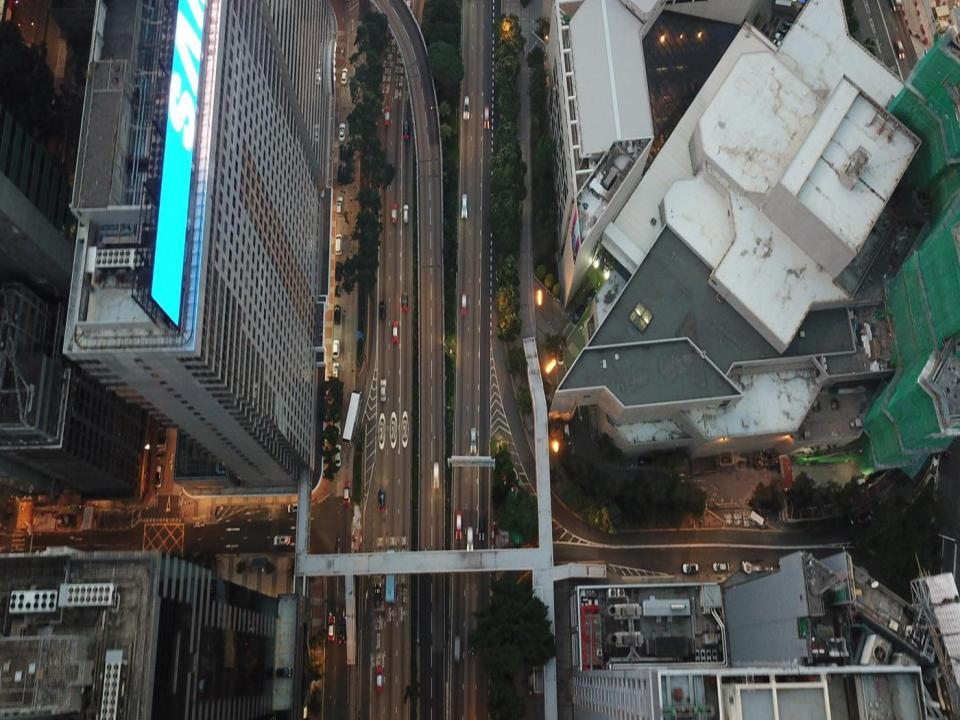bus: (342, 390, 362, 446)
car: (894, 38, 905, 60), (682, 562, 699, 574), (374, 582, 382, 607), (339, 616, 346, 643), (466, 526, 473, 552), (377, 489, 385, 511), (376, 666, 383, 691), (483, 105, 490, 129), (343, 481, 350, 505), (434, 461, 440, 489), (456, 511, 462, 539), (274, 536, 290, 546), (391, 320, 398, 342), (712, 562, 729, 571), (470, 428, 476, 453), (332, 362, 340, 380), (460, 292, 466, 316), (401, 292, 408, 312), (380, 378, 386, 401), (390, 204, 397, 223), (379, 300, 386, 319), (340, 68, 348, 84), (286, 505, 304, 512), (462, 194, 467, 218), (329, 616, 334, 640), (339, 123, 345, 141), (384, 107, 390, 125), (334, 306, 340, 324), (332, 339, 338, 356), (403, 120, 408, 138), (334, 284, 340, 296)
truck: (386, 550, 396, 601), (747, 510, 766, 529)
van: (155, 464, 164, 488), (463, 95, 470, 119), (454, 636, 460, 661), (335, 234, 342, 254), (335, 262, 342, 280), (479, 516, 484, 540), (336, 196, 342, 214), (403, 205, 408, 222)
